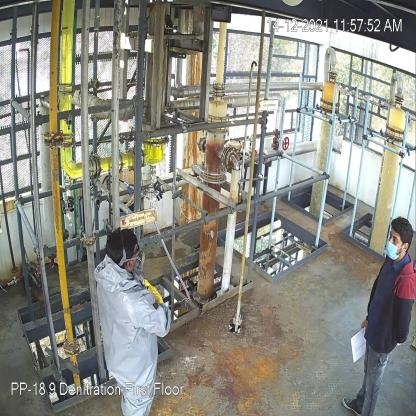no_goggles: (388, 230, 402, 245)
